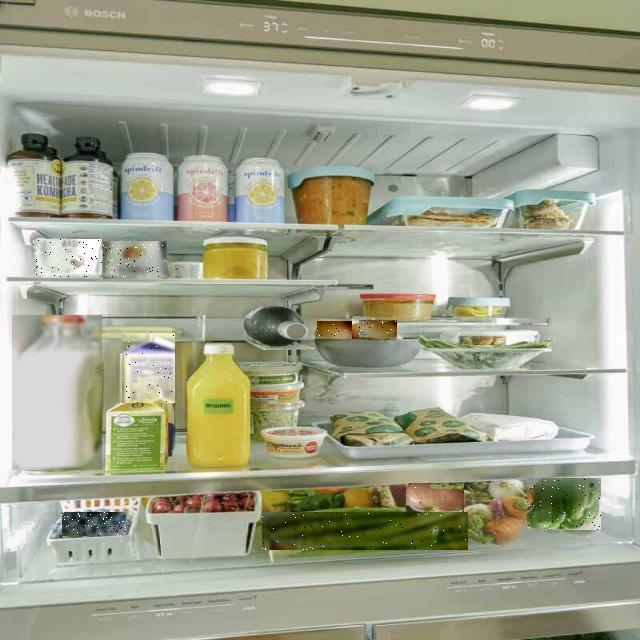Apple: (407, 483, 465, 512)
Asparagus: (262, 512, 468, 550)
Blue Berries: (62, 512, 126, 536)
Eggs: (359, 320, 397, 340), (317, 321, 352, 339)
Green bell pepper: (527, 479, 601, 531)
Milk: (13, 315, 103, 470), (122, 333, 175, 403)
Yoghurt: (34, 240, 102, 278), (103, 241, 167, 279)
